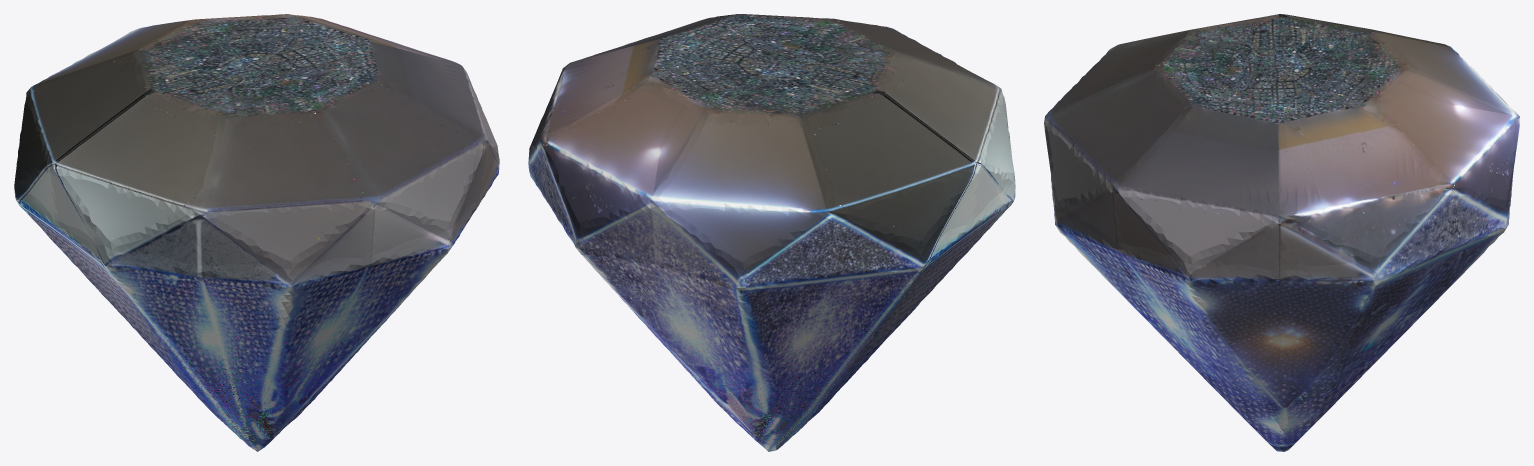
The picture shows the model from 3 angles, left to right: view 1: azimuth 30°, elevation 25°; view 2: azimuth 150°, elevation 25°; view 3: azimuth 270°, elevation 25°; orthographic projection.
Parts seen in each view (by area): view 1: mesh; view 2: mesh; view 3: mesh.
Boxes of the visible parts, x1,y1,x2,y2 form: mesh: [14, 14, 499, 451]; mesh: [528, 14, 1015, 451]; mesh: [1044, 14, 1519, 451].
Bounding box in the file's own units: 0.8346 × 0.7444 × 0.8346.
Materials: 1 (1 with a texture image).
